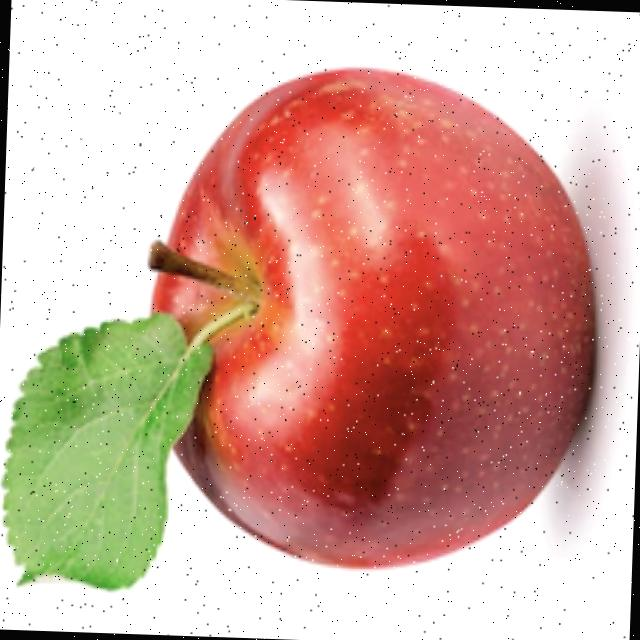Ripe: (128, 53, 610, 583)
